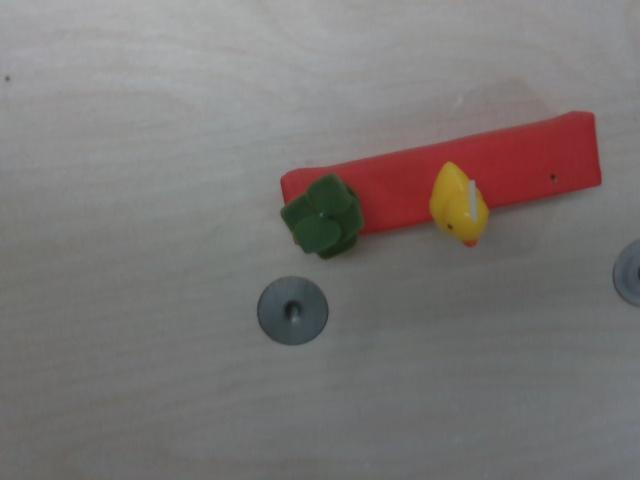leaf: (277, 165, 373, 266)
y_duck: (422, 155, 498, 254)
